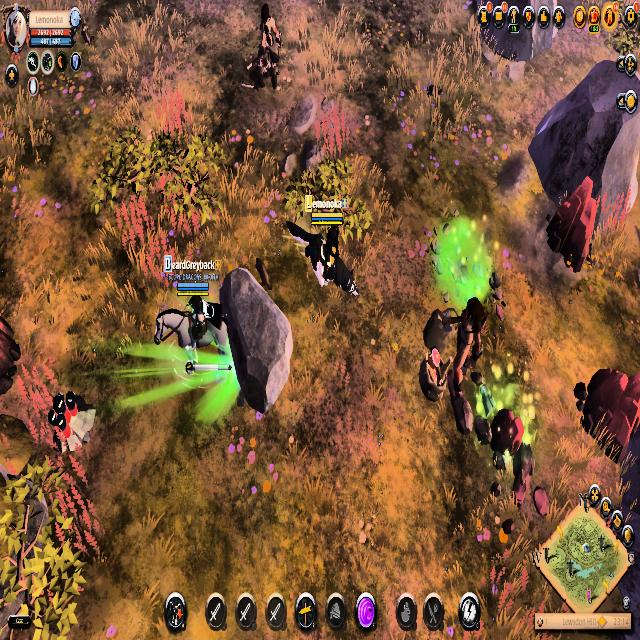ore tier 5: (546, 176, 597, 274), (48, 389, 95, 457)
